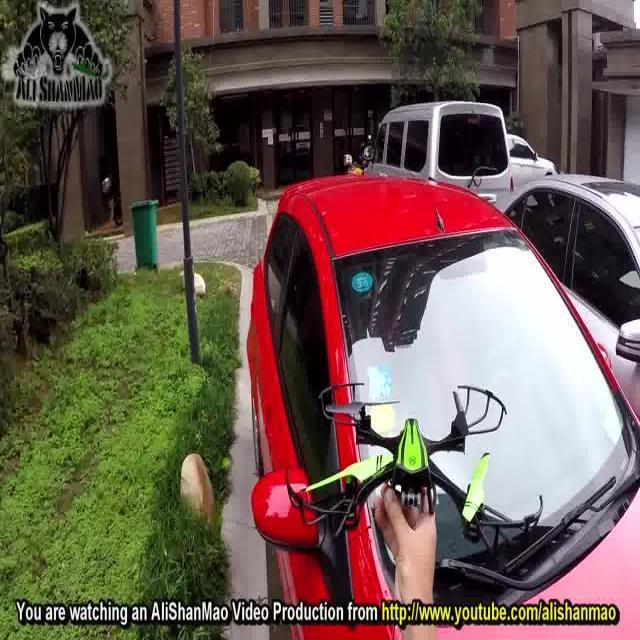drone: (282, 378, 544, 554)
